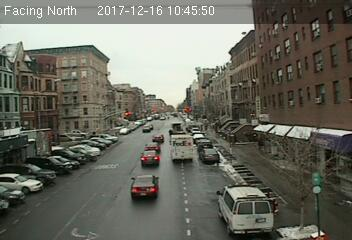car: (130, 174, 158, 201), (140, 150, 160, 166), (198, 147, 219, 162), (143, 142, 159, 153), (152, 134, 165, 143)
police: (214, 181, 275, 237)
truck: (169, 134, 195, 164)
